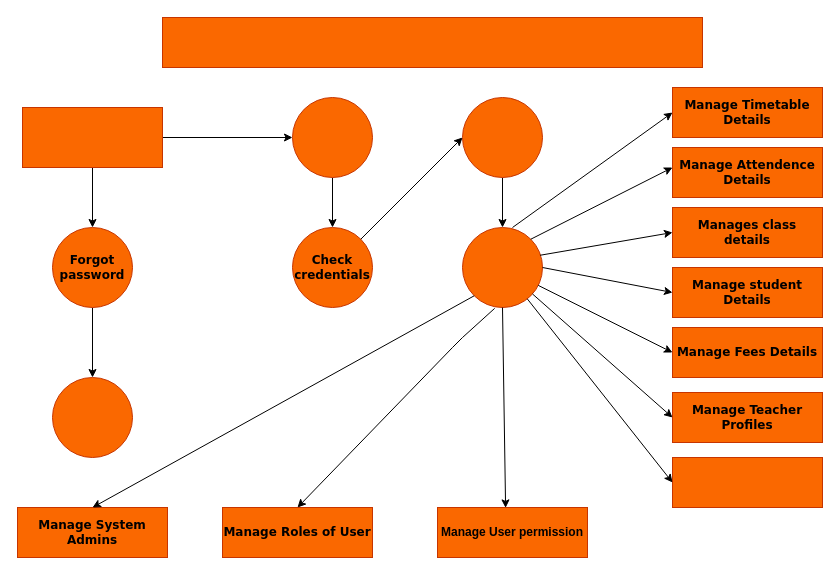
Image size: 840x575. Some labels were removed from this diagram. The shapes that lost their labels are listed below. From the top down, each one's centre as x and y in pixels, then its label:
At (432,42): "Student Information System".
At (92,137): "Admin".
At (332,137): "Login to System".
At (502,137): "Ceck Rolesof acces".
At (502,267): "Manage modules".
At (92,417): "Send Email to User".
